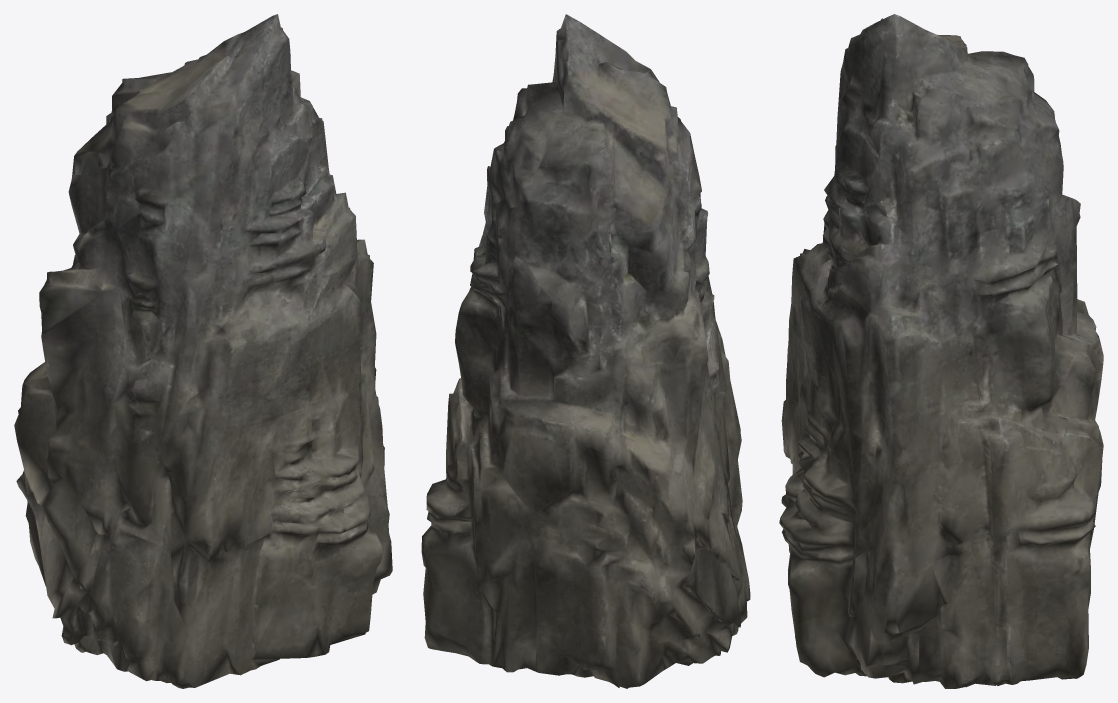
Rendered from cliff_rock.glb.
3 renders of one model, left to right at view 1: azimuth 30°, elevation 25°; view 2: azimuth 150°, elevation 25°; view 3: azimuth 270°, elevation 25°, orthographic. The views are drawn at different scales.
Visible parts, largest first — view 1: rock2_lp; view 2: rock2_lp; view 3: rock2_lp.
Boxes of the visible parts, x1=… form: rock2_lp: x1=14, y1=14, x2=392, y2=688; rock2_lp: x1=421, y1=14, x2=750, y2=688; rock2_lp: x1=779, y1=14, x2=1103, y2=688.
Size of the model in its own units: 22.88 by 42.31 by 19.48.
1 material, 1 textured.
